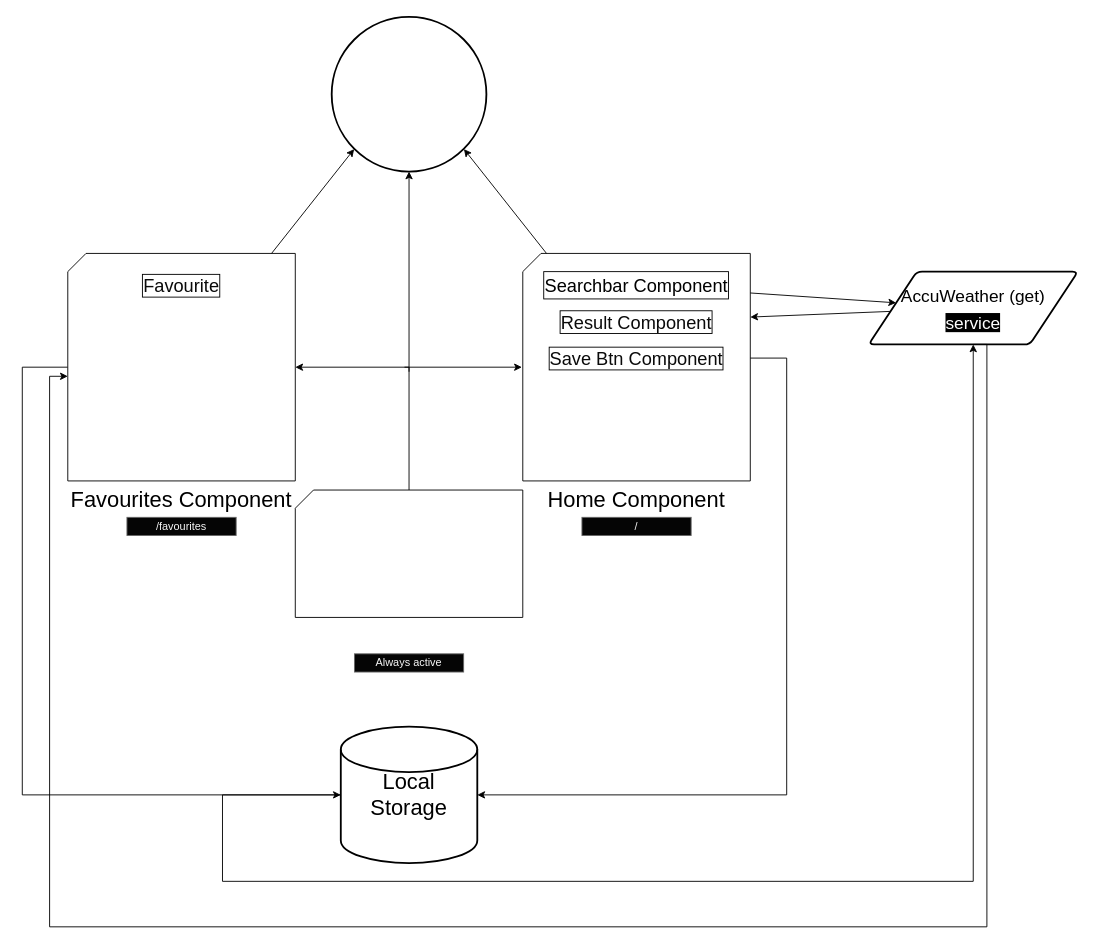
The diagram is 1095 pixels wide and 950 high, and some of its shapes have lost their labels. The centre of each missing label's shape, as x and y in pixels:
"APP" goes at (x=408, y=93).
"Nav Bar Component" goes at (x=408, y=553).
